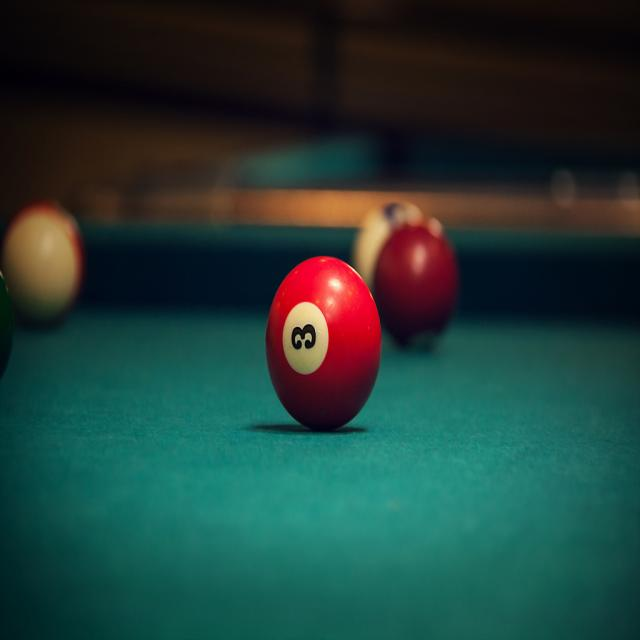Ball: (268, 256, 380, 432), (374, 223, 460, 350), (0, 203, 81, 328), (353, 202, 416, 290)
Billiard table: (0, 185, 639, 639)
